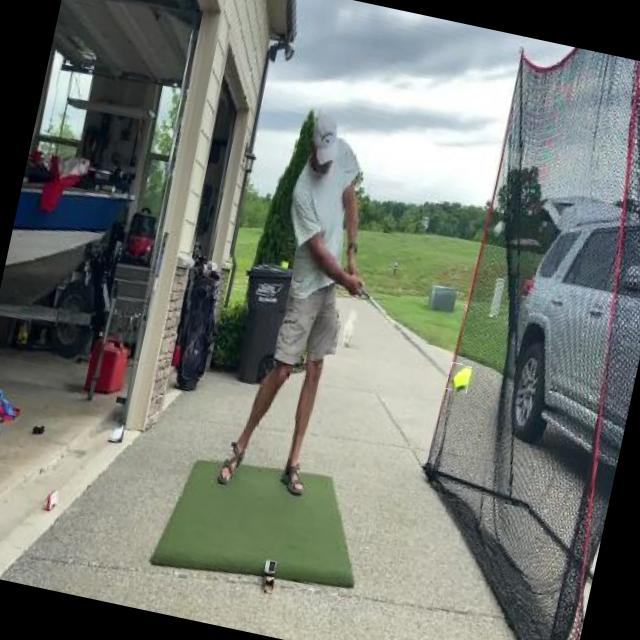club head: (446, 362, 472, 393)
